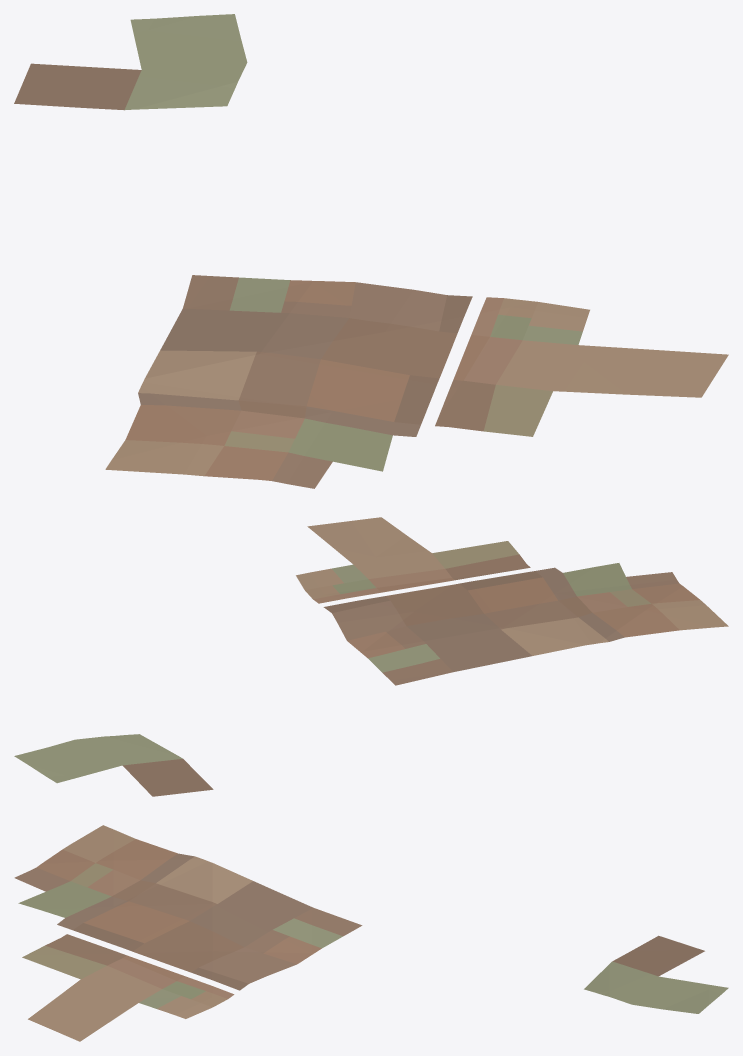
The model's file is farm_24_18_soil.glb.
The picture shows the model from 3 angles, top to bottom: view 1: azimuth 30°, elevation 25°; view 2: azimuth 150°, elevation 25°; view 3: azimuth 270°, elevation 25°; orthographic projection. The views are drawn at different scales.
Visible parts, largest first — view 1: geometry_0; view 2: geometry_0; view 3: geometry_0.
Boxes of the visible parts, x1,y1,x2,y2 form: geometry_0: [14, 14, 728, 488]; geometry_0: [14, 517, 728, 796]; geometry_0: [14, 825, 728, 1041].
Bounding box in the file's own units: 387 × 14.54 × 576.
